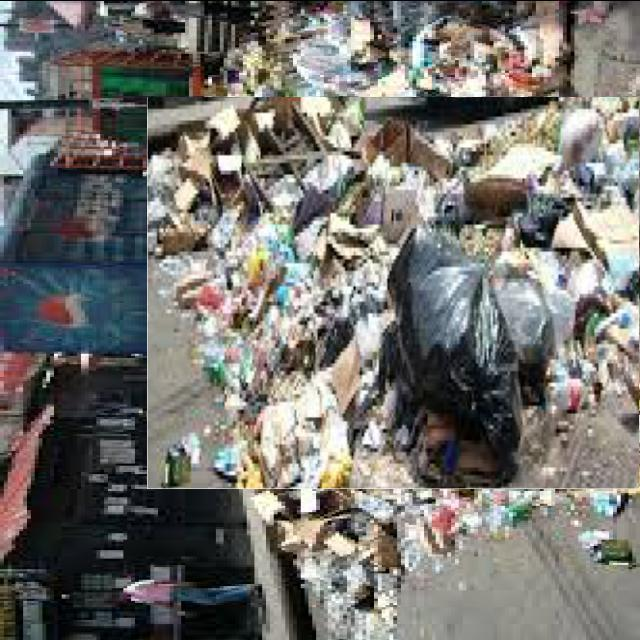Trashbag: (388, 228, 522, 441), (508, 280, 555, 378), (507, 190, 563, 254)
